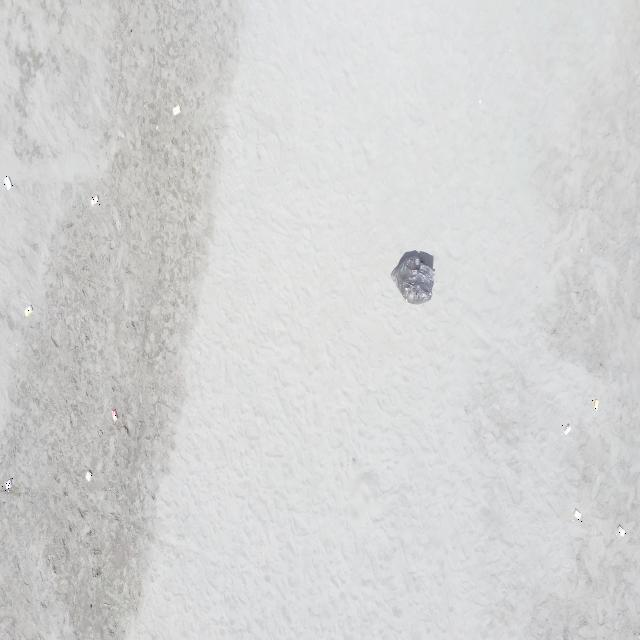Garbage: (391, 251, 433, 303), (3, 476, 12, 491), (616, 524, 626, 535), (24, 304, 32, 316), (172, 103, 180, 115), (562, 423, 571, 433), (573, 508, 580, 520), (4, 176, 11, 187), (91, 195, 99, 204), (85, 471, 91, 480), (592, 399, 597, 409), (111, 407, 114, 422), (155, 124, 158, 129)
